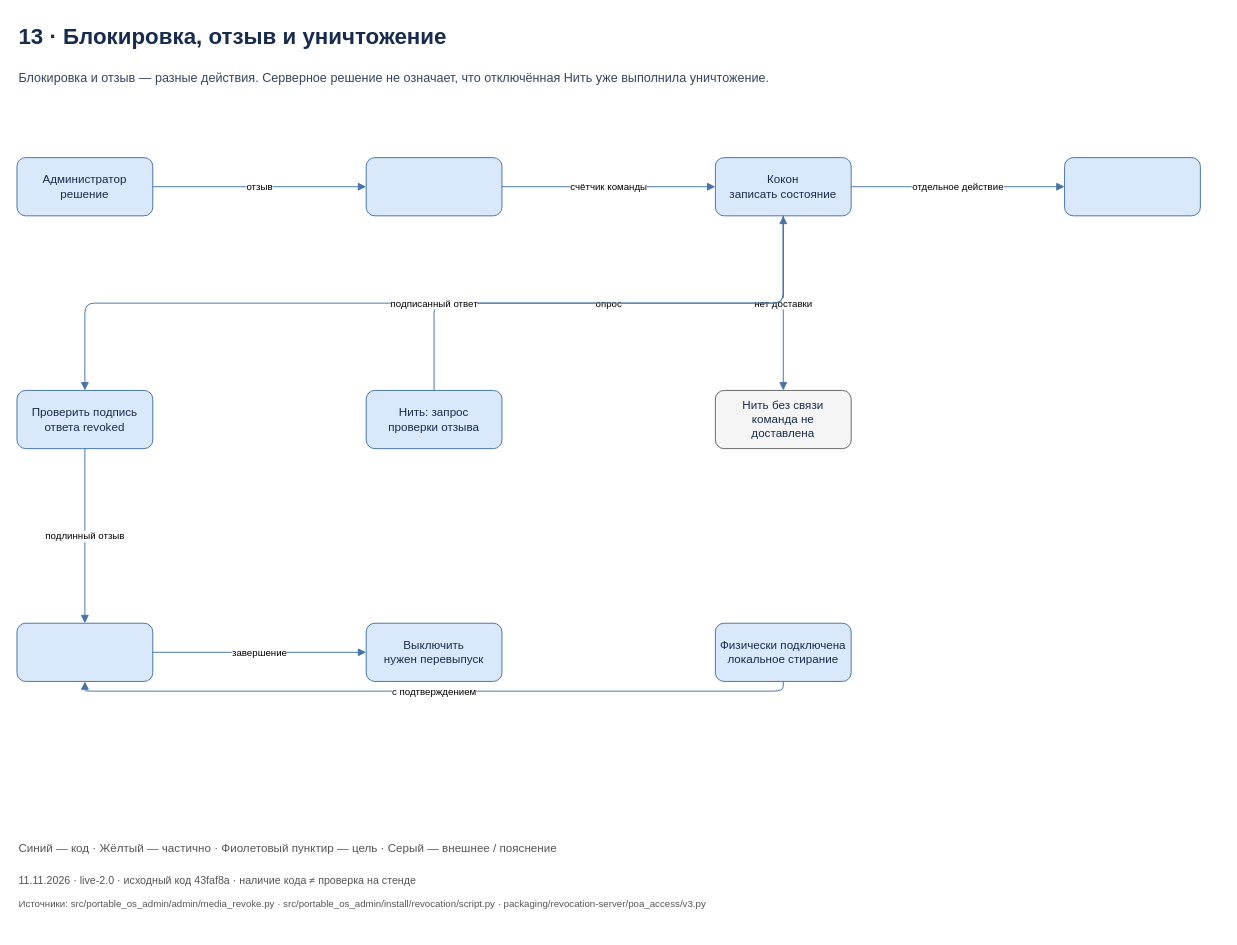
This 1237x945 diagram has some shape labels left out. The shapes that lost their labels are listed below. From the top down, each one's box as (x1, y1, x2, y2) in pixels, then its label:
(365, 157, 502, 216): Ткач подписать команду
(1064, 157, 1200, 216): Блокировка отказать в допуске
(16, 622, 153, 681): Уничтожить ключевые области и данные
